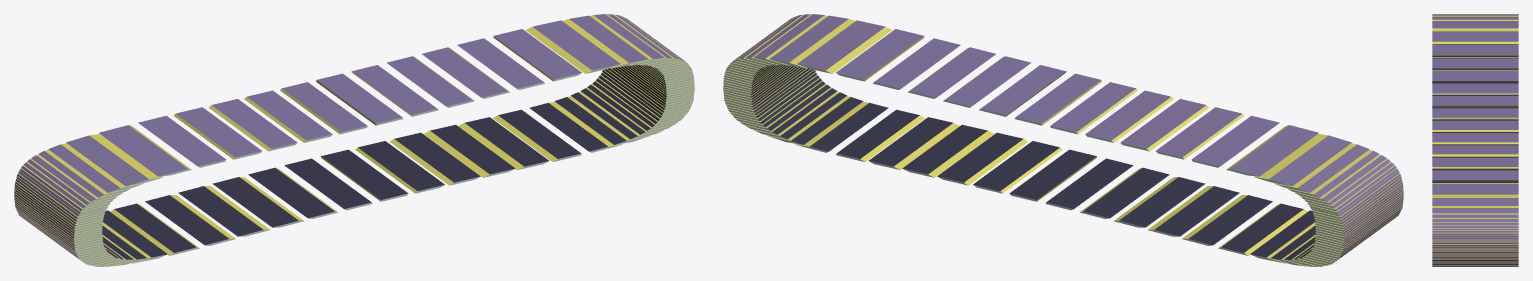
The model's file is conveyor belt - plates.fbx.
3 views of the same model, side by side, from view 1: azimuth 30°, elevation 25°; view 2: azimuth 150°, elevation 25°; view 3: azimuth 270°, elevation 25° (orthographic). The views are drawn at different scales.
Parts seen in each view (by area): view 1: convoyerBelt; view 2: convoyerBelt; view 3: convoyerBelt.
Part boxes in pixels (bbox=[...]): convoyerBelt: bbox=[14, 14, 694, 266]; convoyerBelt: bbox=[723, 14, 1403, 266]; convoyerBelt: bbox=[1432, 14, 1518, 266].
Bounding box in the file's own units: 2721 × 346 × 455.
